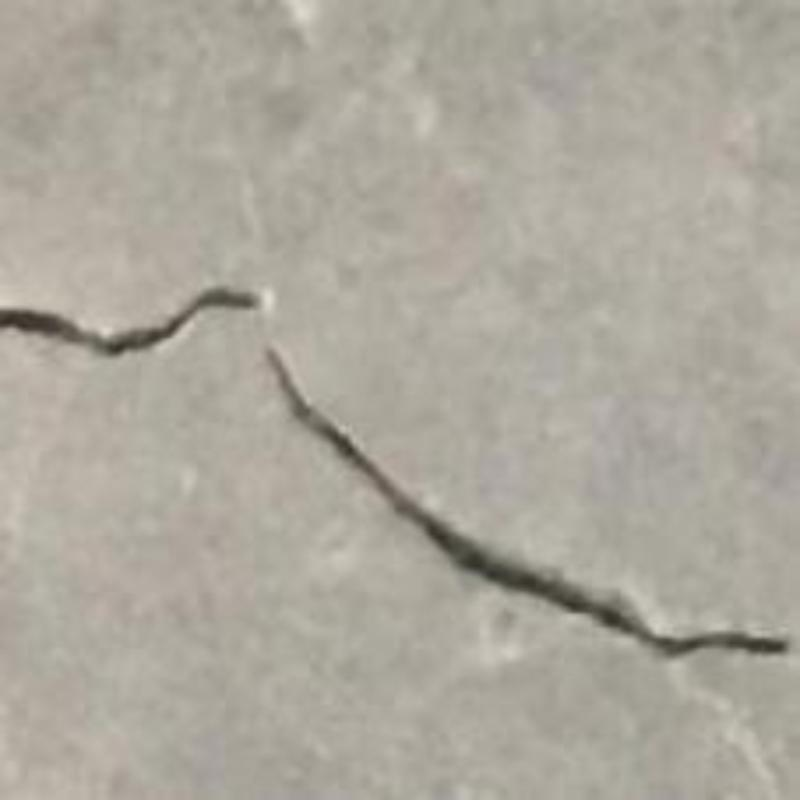crack: (0, 289, 800, 656)
